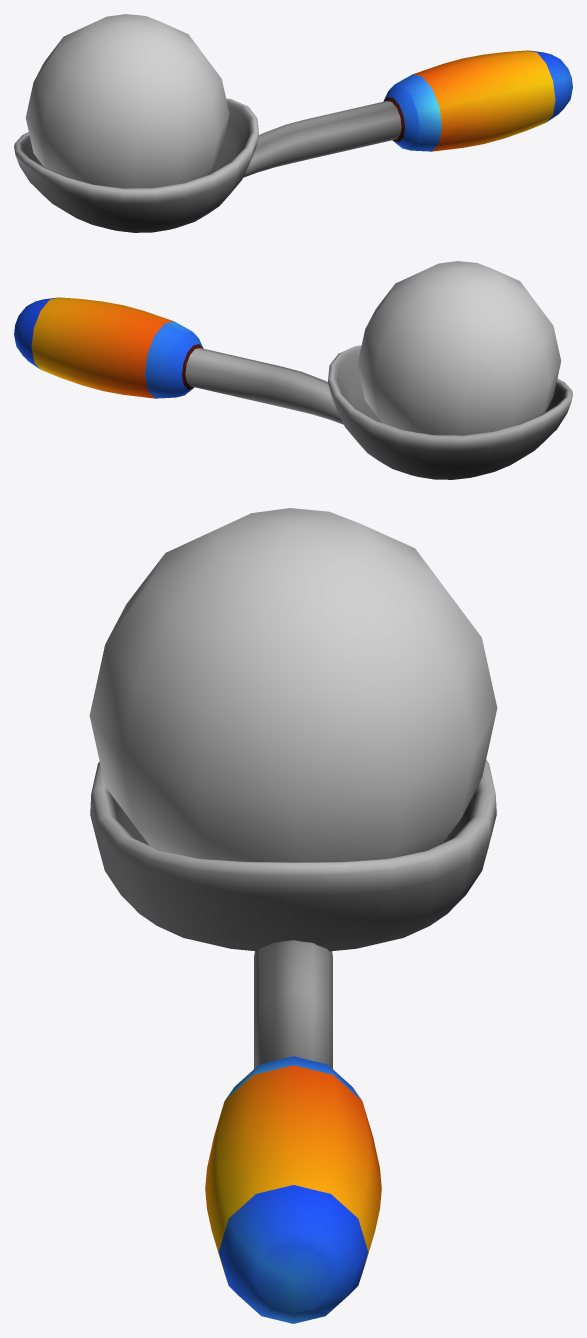
File: ScoopeChamach_new.fbx
3 renders of one model, top to bottom at view 1: azimuth 30°, elevation 25°; view 2: azimuth 150°, elevation 25°; view 3: azimuth 270°, elevation 25°, orthographic. The views are drawn at different scales.
Visible parts, largest first — view 1: scoop chammach, scoop ball; view 2: scoop chammach, scoop ball; view 3: scoop ball, scoop chammach.
Boxes of the visible parts, x1=… form: scoop chammach: x1=14, y1=50, x2=572, y2=232; scoop ball: x1=25, y1=14, x2=229, y2=188; scoop chammach: x1=14, y1=297, x2=572, y2=479; scoop ball: x1=357, y1=261, x2=561, y2=435; scoop ball: x1=89, y1=508, x2=497, y2=862; scoop chammach: x1=90, y1=759, x2=496, y2=1323.
Bounding box in the file's own units: 248 × 81.15 × 88.77.
